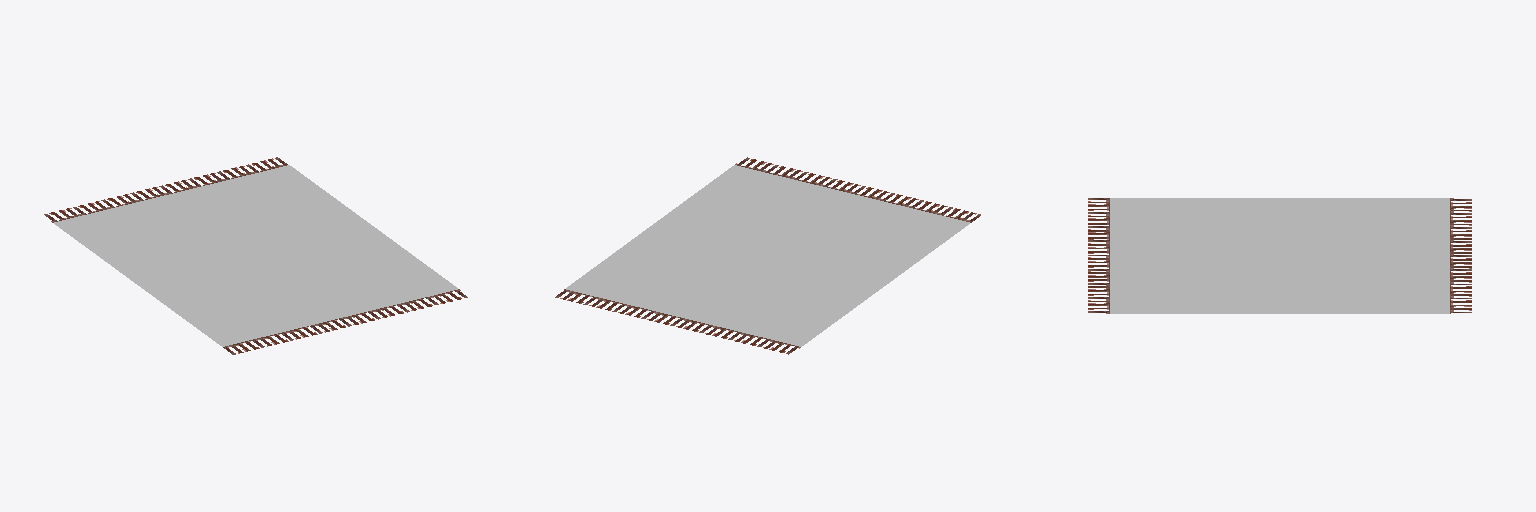
3 views of the same model, side by side, from view 1: azimuth 30°, elevation 25°; view 2: azimuth 150°, elevation 25°; view 3: azimuth 270°, elevation 25° (orthographic).
Visible parts, largest first — view 1: rug; view 2: rug; view 3: rug.
Boxes of the visible parts, x1,y1,x2,y2 form: rug: [44, 157, 467, 354]; rug: [555, 157, 980, 354]; rug: [1088, 198, 1471, 313].
Size of the model in its own units: 10 by 0 by 14.
2 materials, 1 textured.